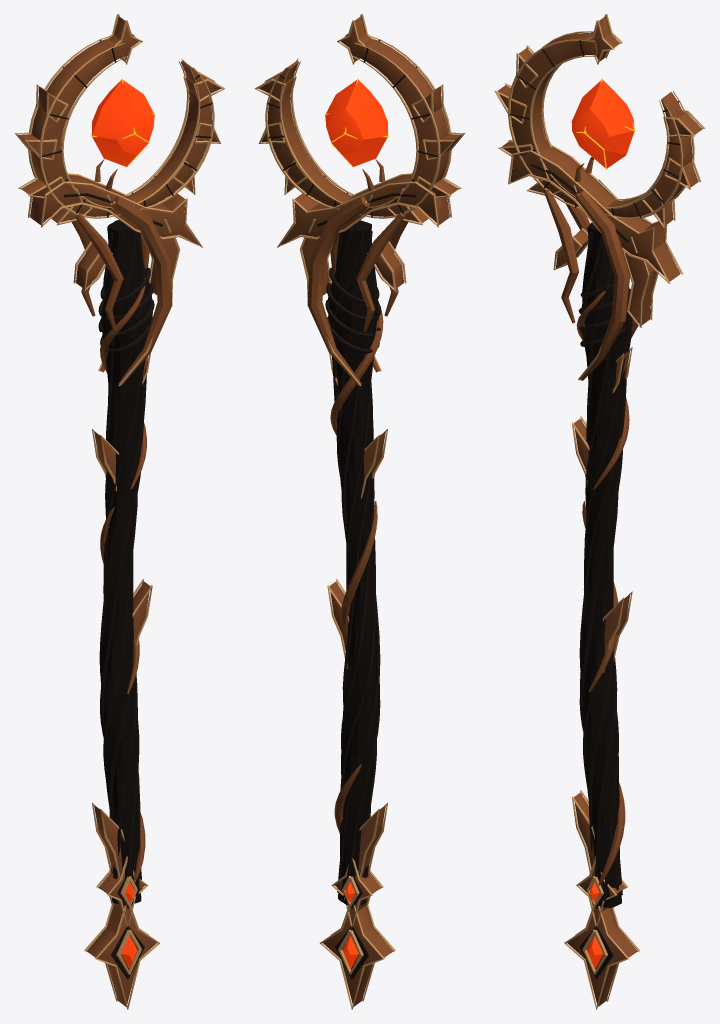
The model's file is Aetheria_T4_Embercrescent_Staff.fbx.
3 views of the same model, side by side, from view 1: azimuth 30°, elevation 25°; view 2: azimuth 150°, elevation 25°; view 3: azimuth 330°, elevation 25° (orthographic).
Visible parts, largest first — view 1: Aetheria_T4_Embercrescent_Staff; view 2: Aetheria_T4_Embercrescent_Staff; view 3: Aetheria_T4_Embercrescent_Staff.
Part boxes in pixels (x1=…): Aetheria_T4_Embercrescent_Staff: x1=14, y1=14, x2=225, y2=1009; Aetheria_T4_Embercrescent_Staff: x1=254, y1=14, x2=465, y2=1009; Aetheria_T4_Embercrescent_Staff: x1=494, y1=14, x2=705, y2=1009.
Size of the model in its own units: 48.11 by 227 by 14.1.
